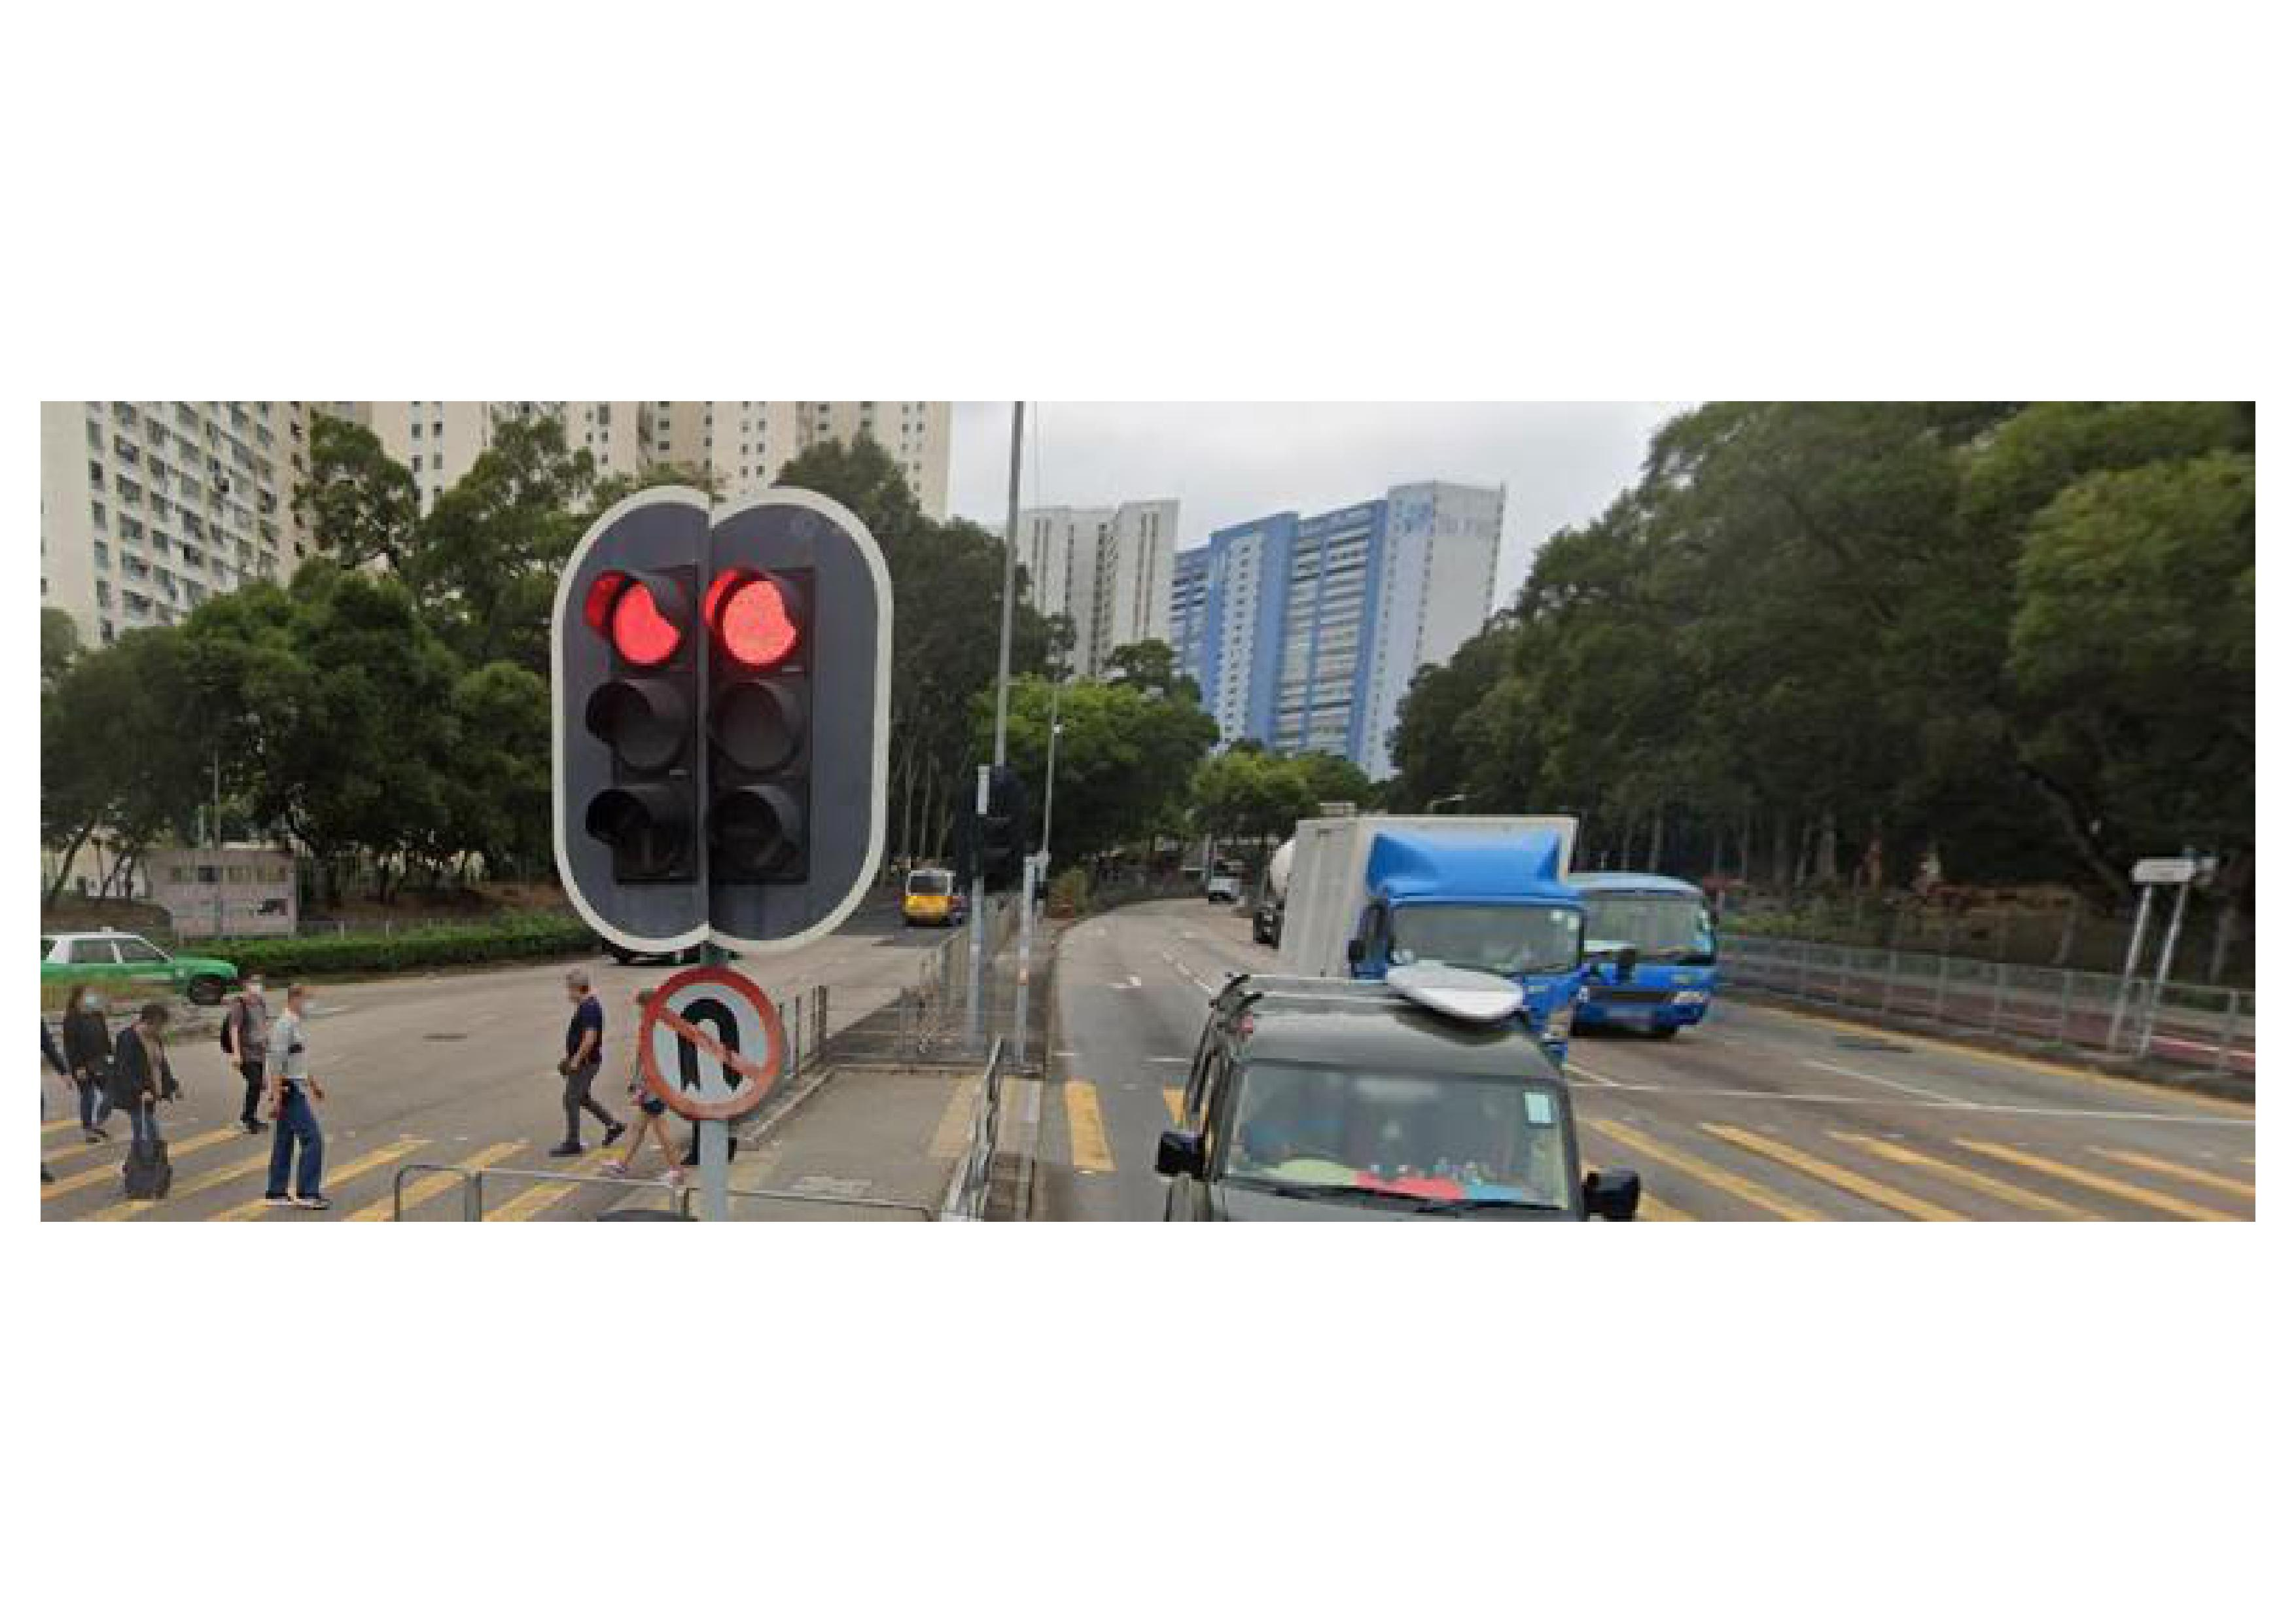No Uturn: (630, 970, 786, 1110)
